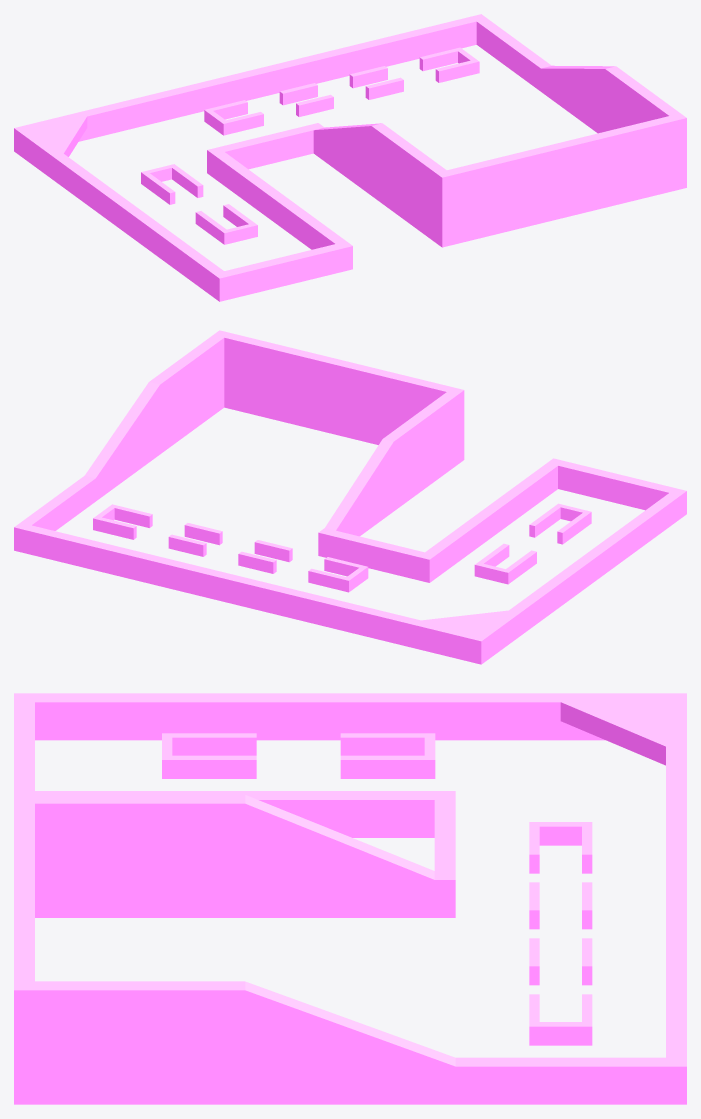
Rendered from Hole 4 Trim.glb.
3 views of the same model, one above another, from view 1: azimuth 30°, elevation 25°; view 2: azimuth 150°, elevation 25°; view 3: azimuth 270°, elevation 25° (orthographic). The views are drawn at different scales.
Parts seen in each view (by area): view 1: Hole 4 Trim; view 2: Hole 4 Trim; view 3: Hole 4 Trim.
Part boxes in pixels (x1,y1,x2,y2): Hole 4 Trim: [14, 14, 686, 301]; Hole 4 Trim: [14, 330, 686, 664]; Hole 4 Trim: [14, 693, 686, 1104].
Size of what is drawn, in the model's own units: 8.4 by 1.2 by 6.4.
